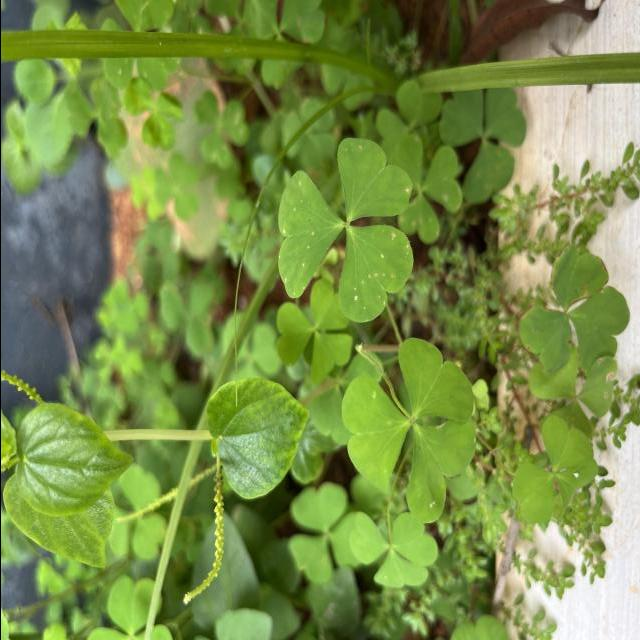Oxalis corniculata: (340, 336, 478, 526), (276, 136, 414, 325), (516, 242, 629, 374), (508, 414, 600, 526), (347, 509, 438, 591)
